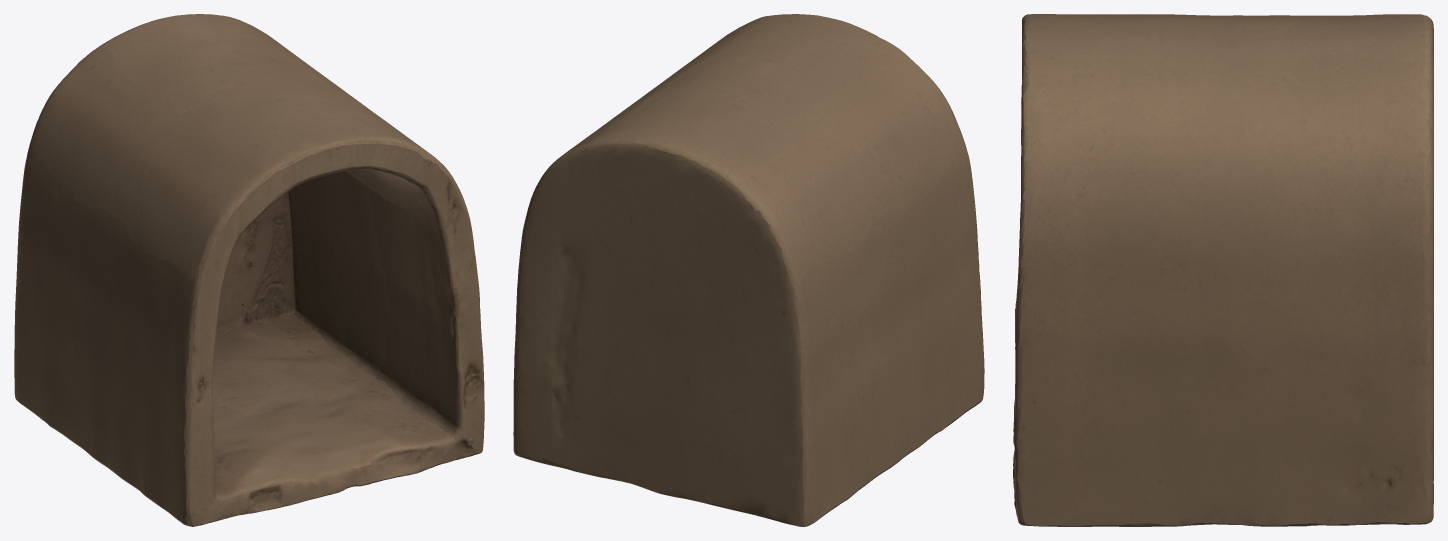
File: tunnel_bay.glb
The picture shows the model from 3 angles, left to right: view 1: azimuth 30°, elevation 25°; view 2: azimuth 150°, elevation 25°; view 3: azimuth 270°, elevation 25°; orthographic projection. The views are drawn at different scales.
Parts seen in each view (by area): view 1: world; view 2: world; view 3: world.
Part boxes in pixels (<box>): world: <box>14,14,484,526</box>; world: <box>513,14,984,526</box>; world: <box>1013,14,1433,526</box>.
Size of the model in its own units: 0.45 by 0.4998 by 0.4659.
Materials: 1 (1 with a texture image).
